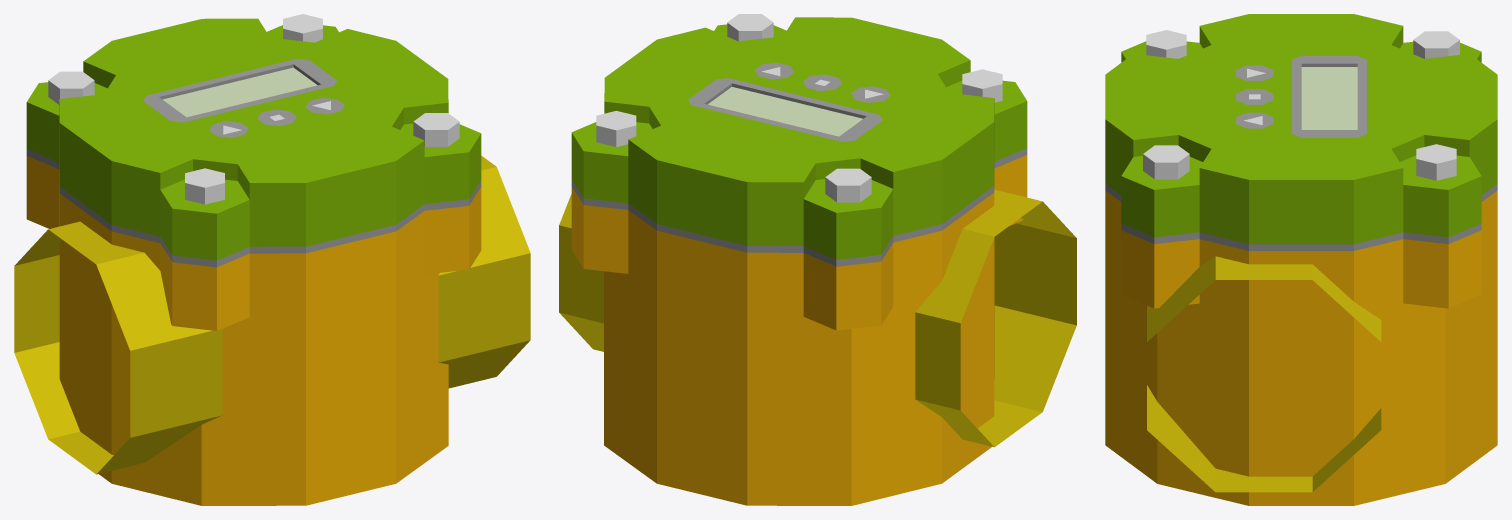
Rendered from fpe_flow_sensor.dae.
3 views of the same model, side by side, from view 1: azimuth 30°, elevation 25°; view 2: azimuth 150°, elevation 25°; view 3: azimuth 270°, elevation 25° (orthographic).
Visible parts, largest first — view 1: flow_sensor; view 2: flow_sensor; view 3: flow_sensor.
Boxes of the visible parts, box(x1,y1,x2,y2) form: flow_sensor: box(14, 14, 530, 505); flow_sensor: box(559, 14, 1076, 505); flow_sensor: box(1105, 14, 1497, 505).
Bounding box in the file's own units: 0.25 × 0.21 × 0.1925.
